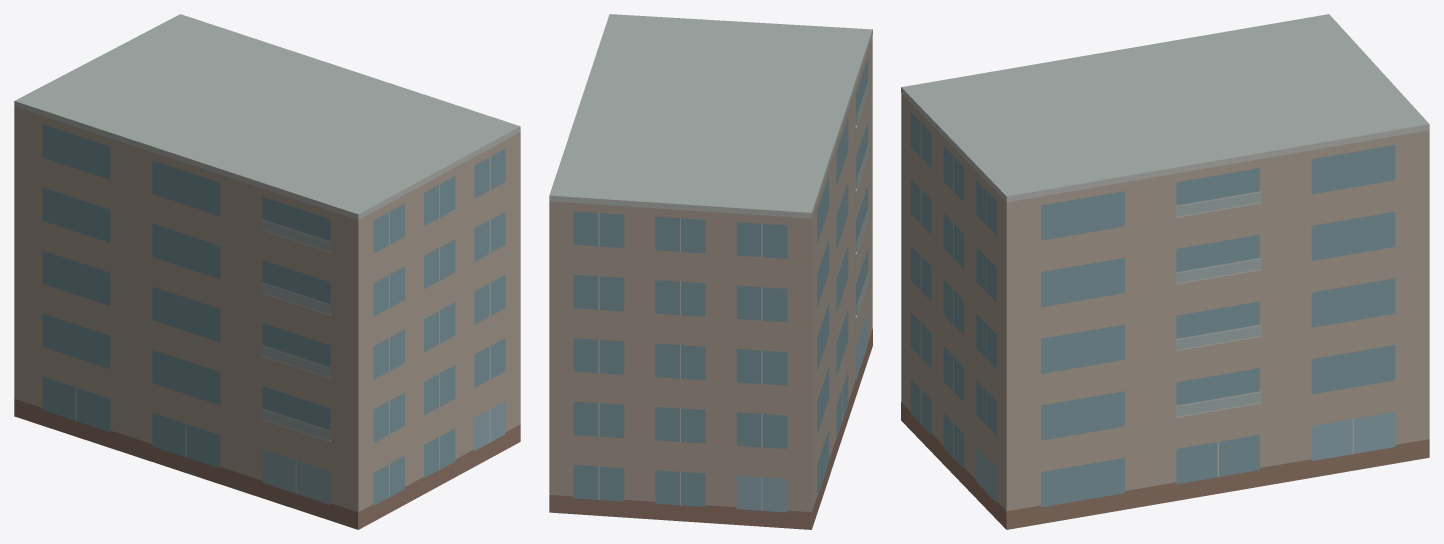
The model's file is survey-upis-32592887.glb.
3 renders of one model, left to right at view 1: azimuth 30°, elevation 25°; view 2: azimuth 150°, elevation 25°; view 3: azimuth 270°, elevation 25°, orthographic. The views are drawn at different scales.
Parts seen in each view (by area): view 1: survey-upis-32592887.tmp; view 2: survey-upis-32592887.tmp; view 3: survey-upis-32592887.tmp.
Part boxes in pixels (x1=…): survey-upis-32592887.tmp: x1=14, y1=14, x2=520, y2=529; survey-upis-32592887.tmp: x1=549, y1=14, x2=872, y2=529; survey-upis-32592887.tmp: x1=901, y1=14, x2=1429, y2=529.
Size of the model in its own units: 16.02 by 13.64 by 19.6.
